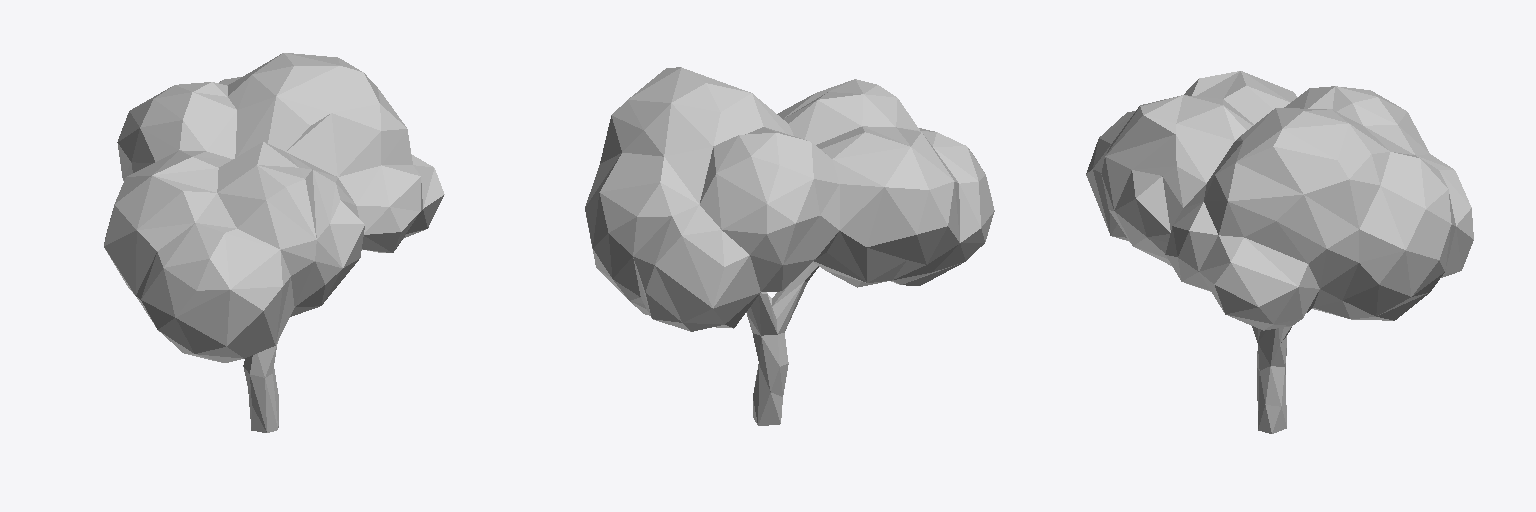
Rendered from arvore.obj.
The picture shows the model from 3 angles: view 1: azimuth 30°, elevation 25°; view 2: azimuth 150°, elevation 25°; view 3: azimuth 270°, elevation 25°; orthographic projection.
Parts seen in each view (by area): view 1: Simple_Tree_01; view 2: Simple_Tree_01; view 3: Simple_Tree_01.
Boxes of the visible parts, box(x1,y1,x2,y2) form: Simple_Tree_01: box(104, 53, 444, 432); Simple_Tree_01: box(585, 67, 994, 425); Simple_Tree_01: box(1086, 71, 1473, 433).
Bounding box in the file's own units: 34.2 × 33.31 × 34.58.